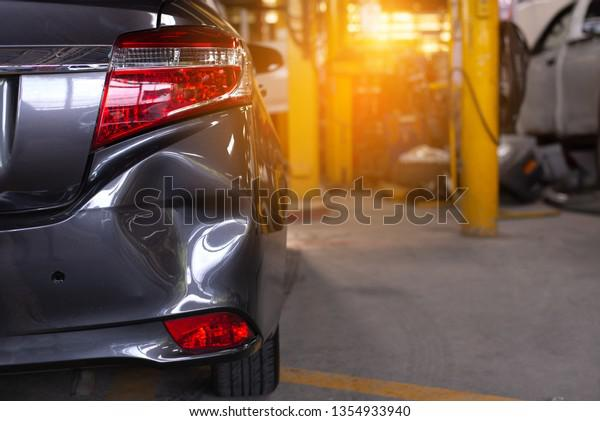rear-bumper-dent: (0, 147, 273, 359)
